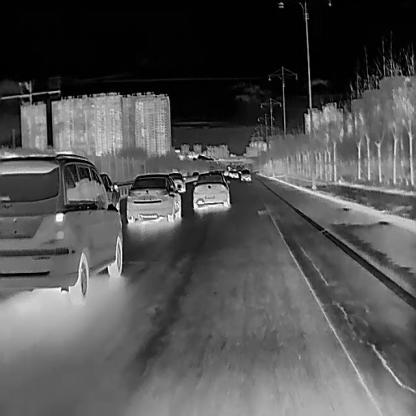car: (0, 150, 122, 306), (126, 173, 180, 223), (192, 172, 229, 212), (170, 171, 185, 192), (239, 168, 251, 180)
